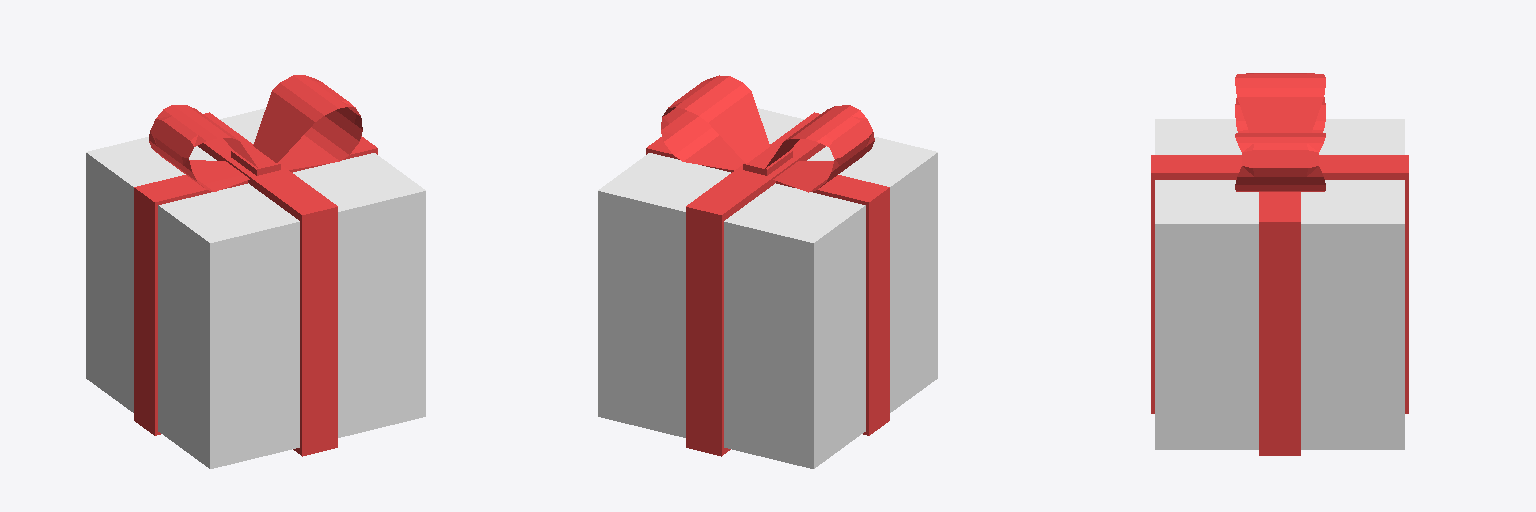
3 renders of one model, left to right at view 1: azimuth 30°, elevation 25°; view 2: azimuth 150°, elevation 25°; view 3: azimuth 270°, elevation 25°, orthographic.
Parts seen in each view (by area): view 1: プレゼント; view 2: プレゼント; view 3: プレゼント.
Part boxes in pixels (left/top/right/bottom): プレゼント: left=86, top=75, right=425, bottom=468; プレゼント: left=598, top=75, right=937, bottom=468; プレゼント: left=1151, top=73, right=1408, bottom=455.
Size of the model in its own units: 0.62 by 0.7909 by 0.62.
Materials: 1 (1 with a texture image).